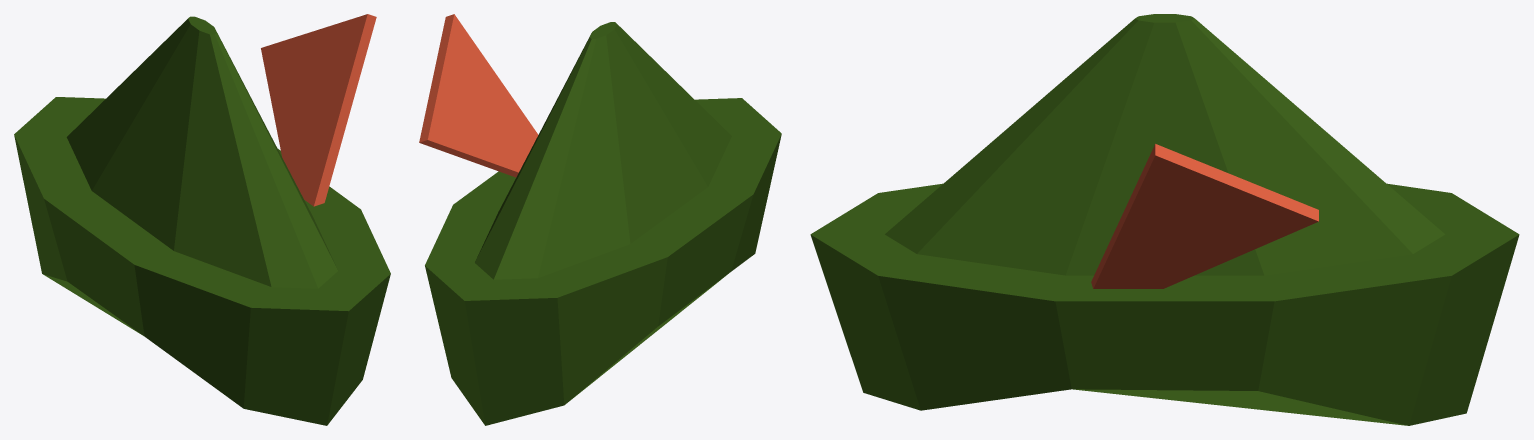
File: spoiler2.glb
3 renders of one model, left to right at view 1: azimuth 30°, elevation 25°; view 2: azimuth 150°, elevation 25°; view 3: azimuth 270°, elevation 25°, orthographic. The views are drawn at different scales.
Visible parts, largest first — view 1: spoiler2; view 2: spoiler2; view 3: spoiler2.
Part boxes in pixels (bbox=[...]): spoiler2: bbox=[14, 14, 390, 425]; spoiler2: bbox=[419, 14, 781, 425]; spoiler2: bbox=[810, 14, 1519, 425].
Bounding box in the file's own units: 1.31 × 1.44 × 2.35.
1 material, 1 textured.
